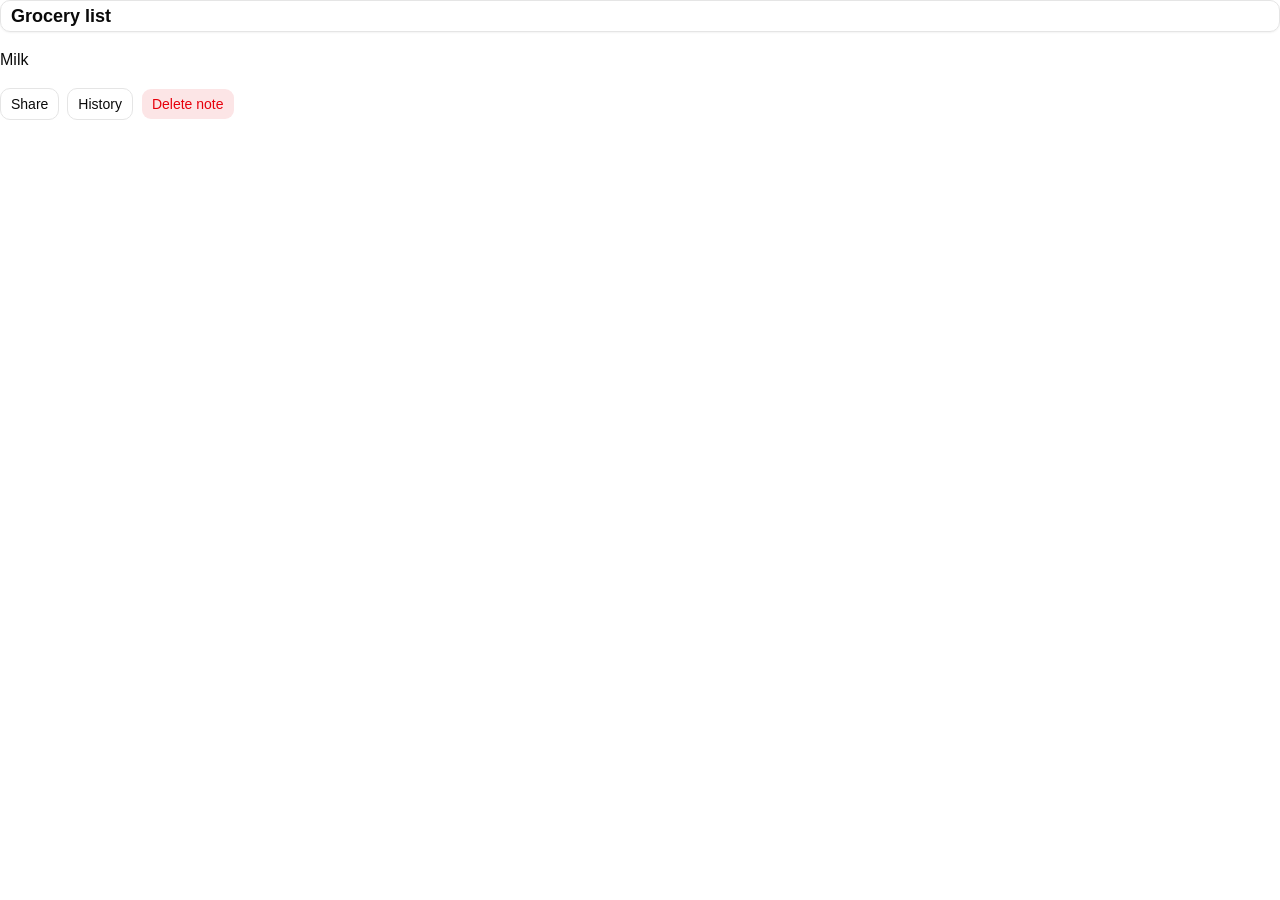
Test: NoteEditorPage delete › shows an error and stays on the editor when delete fails
Expected: the field named "title" holds "Grocery list", [0,0,1279,32]
Click the button "Delete note". click: (188,104)
box: [141,88,234,120]
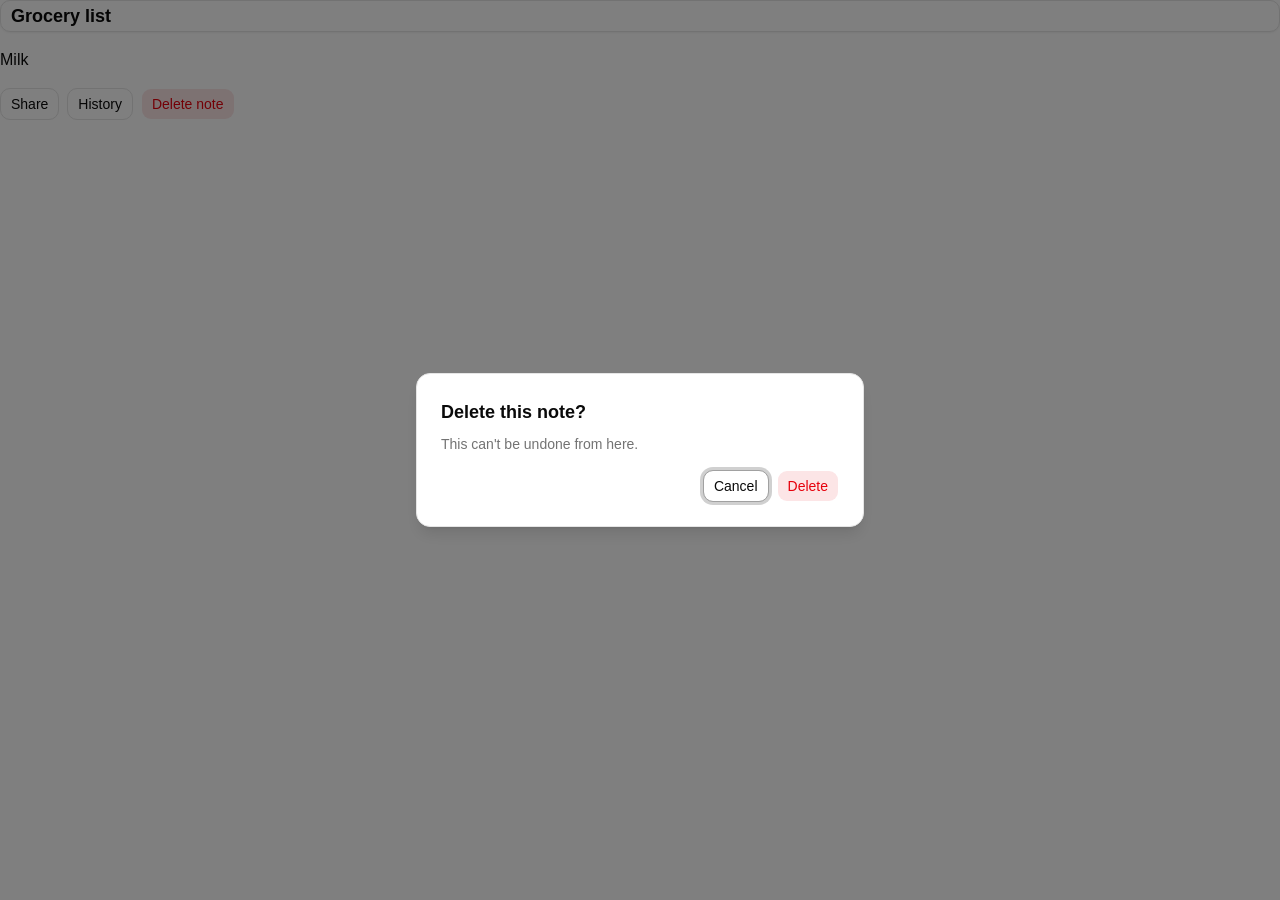
Click the button "Delete". click: (808,486)
box: [776,470,839,502]
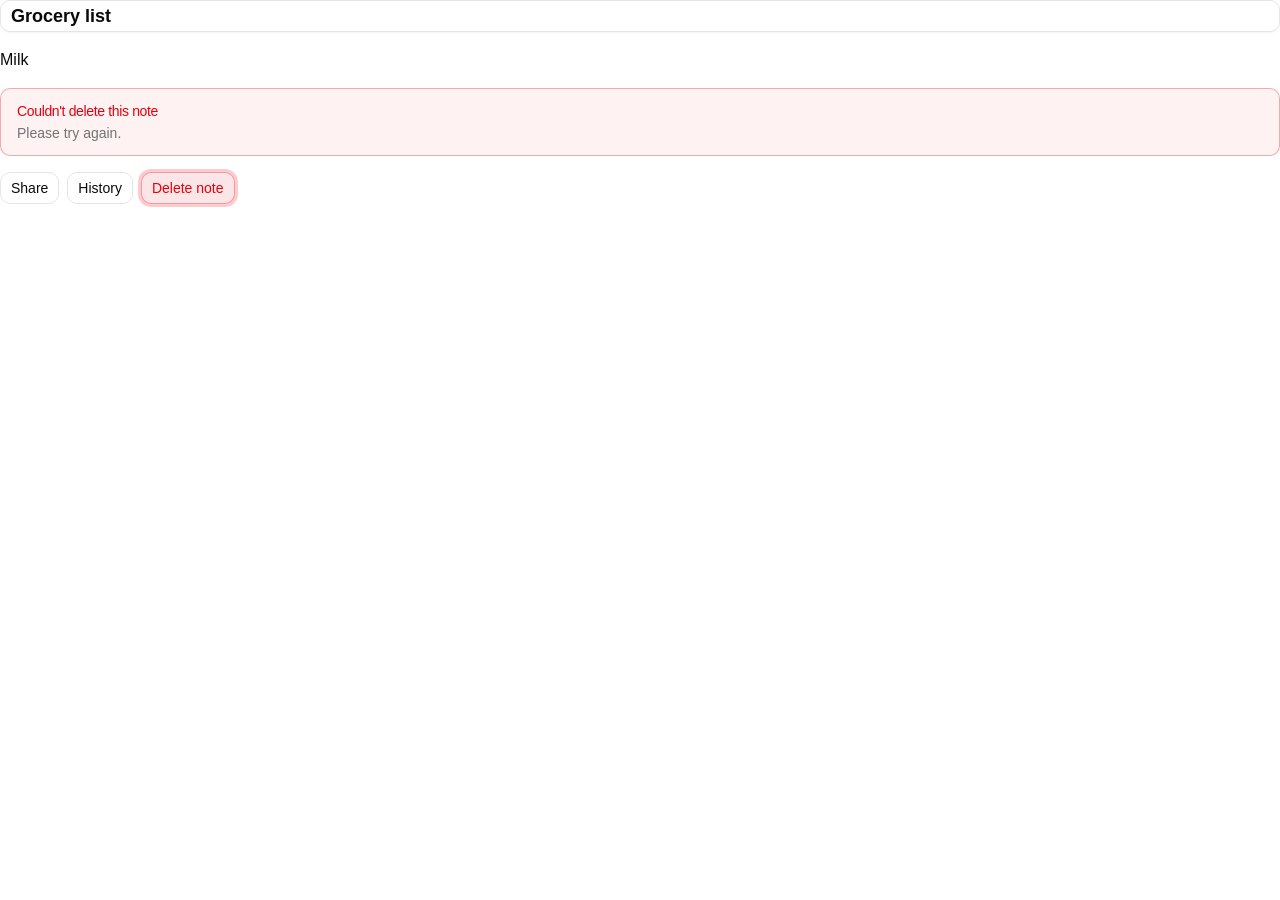
Expected: the field named "title" holds "Grocery list", [0,0,1279,32]
Expected: the text "Couldn't delete this note" is shown, [17,103,158,119]
